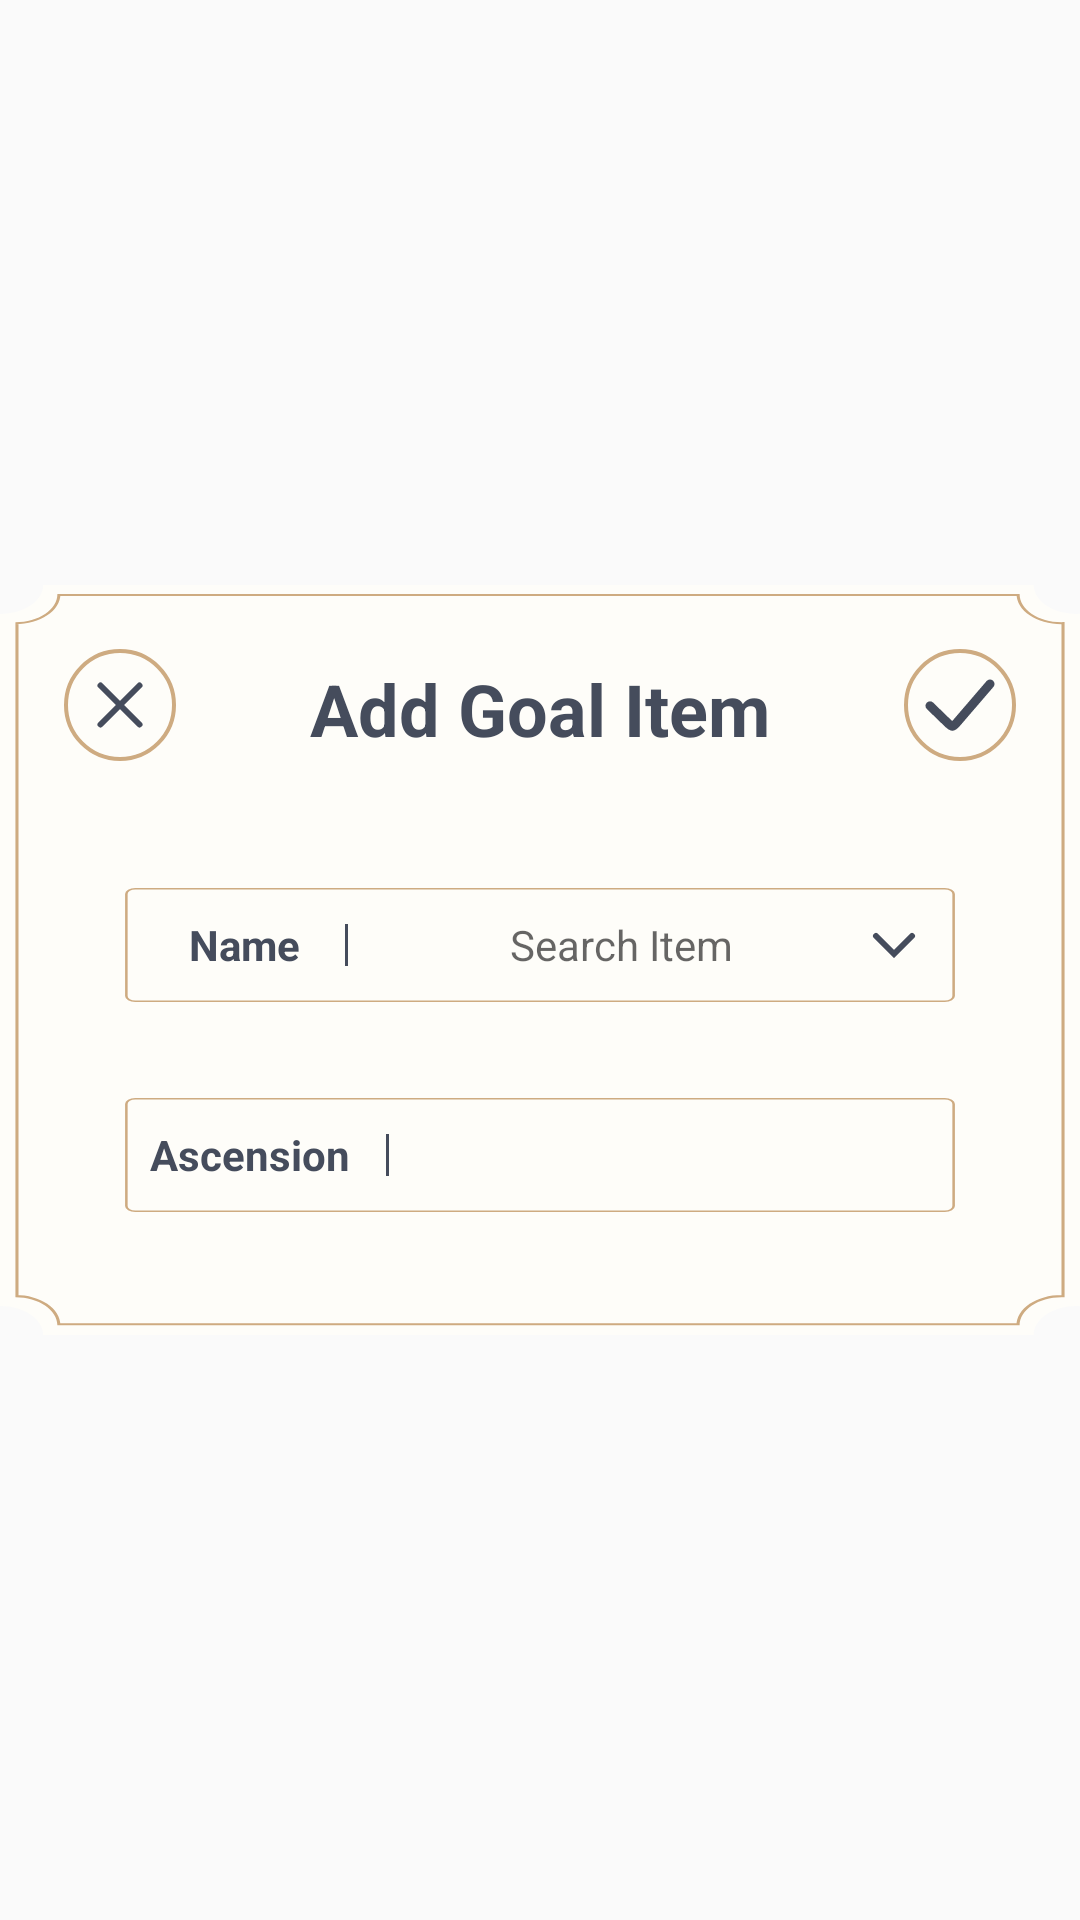

Screen size 1080x1920. Icon name, then its box in pixels as [left=x1, top=y1, right=x2, bottom=y2]:
close: [left=64, top=649, right=176, bottom=761]
done: [left=904, top=649, right=1016, bottom=761]
